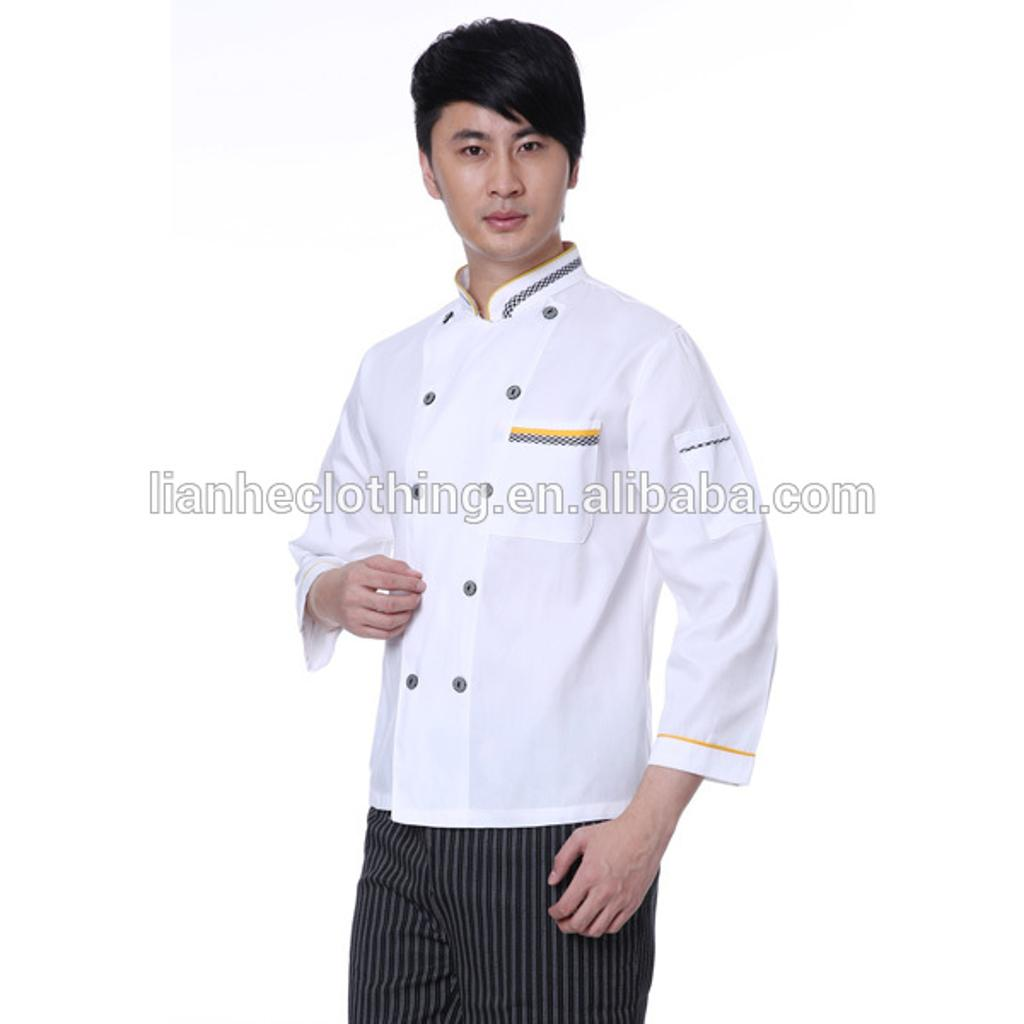face: (430, 76, 572, 256)
